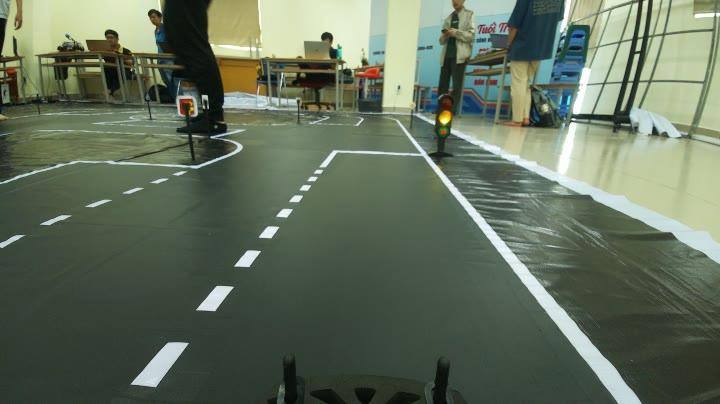trafficlight: (421, 88, 466, 175)
